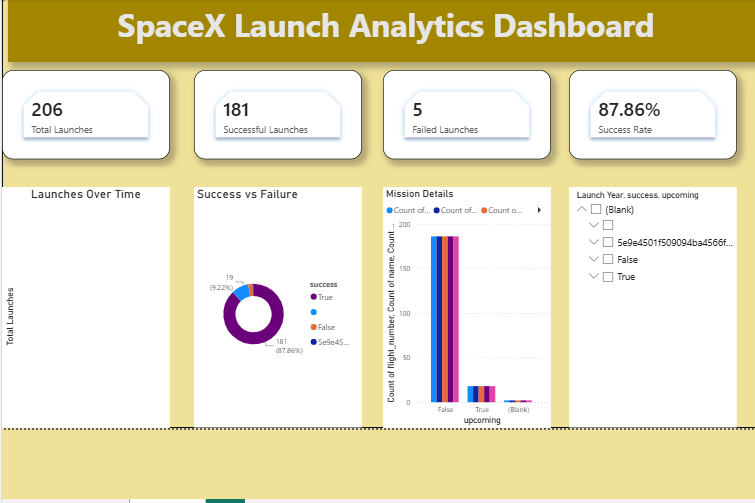

Layout of this report page (visuals, bound fields, positions):
{"tool":"powerbi","page":{"name":"Page 1","canvas":[1280,720],"ordinal":0},"visuals":[{"type":"textbox","box":[10.1,0,1269.9,105.8],"z":0},{"type":"cardVisual","fields":{"Data":["spacex_launches.Total Launches"]},"box":[0,119.3,282.2,149.5],"z":2},{"type":"cardVisual","fields":{"Data":["spacex_launches.Successful Launches"]},"box":[322.5,119.3,282.2,149.5],"z":6},{"type":"cardVisual","fields":{"Data":["spacex_launches.Success Rate"]},"box":[952.4,119.3,282.2,149.5],"z":7},{"type":"cardVisual","fields":{"Data":["spacex_launches.Failed Launches"]},"box":[640,119.3,282.2,149.5],"z":8},{"type":"lineChart","title":"Launches Over Time","fields":{"Category":["spacex_launches.Launch Year"],"Y":["spacex_launches.Total Launches"]},"box":[0,315.8,282.2,404.8],"z":10},{"type":"donutChart","title":"Success vs Failure","fields":{"Category":["spacex_launches.success"],"Y":["CountNonNull(spacex_launches.flight_number)"]},"box":[323,316,282,404],"z":11},{"type":"clusteredColumnChart","title":"Mission Details","fields":{"Category":["spacex_launches.upcoming"],"Y":["CountNonNull(spacex_launches.flight_number)","CountNonNull(spacex_launches.name)","CountNonNull(spacex_launches.date_utc)","CountNonNull(spacex_launches.success)","CountNonNull(spacex_launches.details)"]},"box":[640,315.8,282.2,404.8],"z":12},{"type":"slicer","fields":{"Values":["spacex_launches.Launch Year","spacex_launches.success","spacex_launches.upcoming"]},"box":[952,316,282,404],"z":13}]}

Visuals, with their boxes in screenshot pixels (x1, y1, x2, y2):
textbox: bbox=[2, 0, 754, 60]
cardVisual - spacex_launches.Total Launches: bbox=[0, 68, 166, 158]
cardVisual - spacex_launches.Successful Launches: bbox=[191, 68, 361, 158]
cardVisual - spacex_launches.Success Rate: bbox=[570, 68, 741, 158]
cardVisual - spacex_launches.Failed Launches: bbox=[382, 68, 552, 158]
"Launches Over Time" lineChart: bbox=[0, 187, 166, 431]
"Success vs Failure" donutChart: bbox=[191, 187, 361, 430]
"Mission Details" clusteredColumnChart: bbox=[382, 187, 552, 431]
slicer - spacex_launches.Launch Year x spacex_launches.success: bbox=[570, 187, 740, 430]
